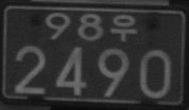0: (140, 48, 172, 98)
2: (15, 44, 46, 94)
4: (56, 46, 87, 96)
8: (77, 12, 103, 41)
9: (97, 47, 129, 98), (44, 12, 70, 39)
우: (110, 14, 137, 42)
